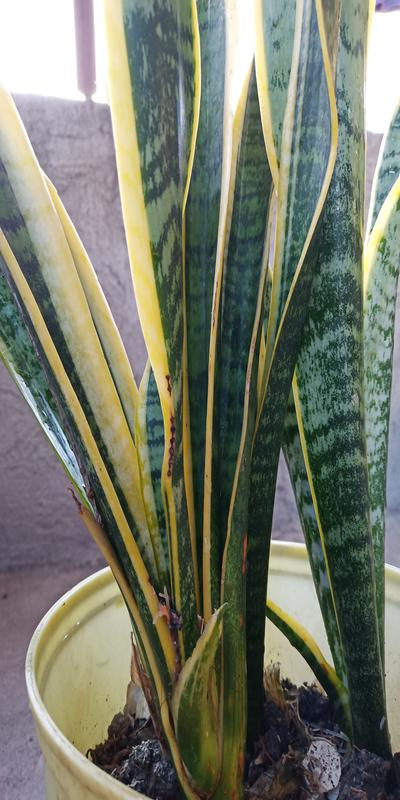Snake plant: (19, 32, 391, 763)
